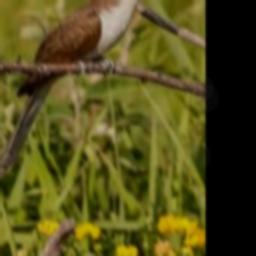Cuckoo: (0, 0, 169, 178)
